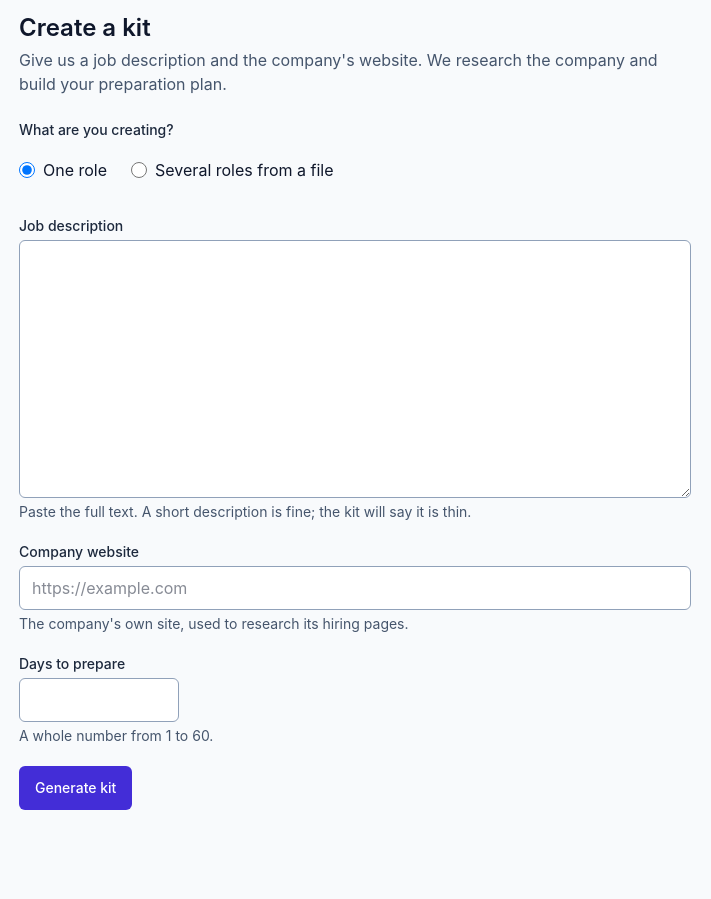
single form: checking before sending › explains every problem, marks the fields, and focuses the first
This screenshot has width=711, height=899.
Click the button "Generate kit". click: {"x": 76, "y": 788}
box: [19,766,132,810]
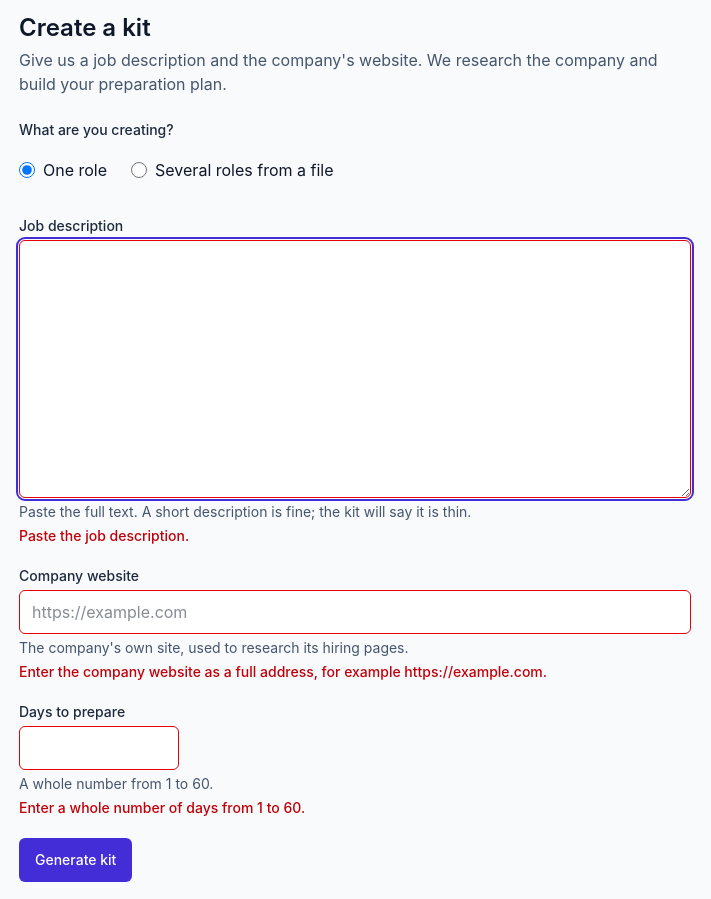
Expected: the text "Paste the job description." is shown, [19,527,189,544]
Expected: the text "full address, for example https://example.com" is shown, [19,663,547,680]
Expected: the text "Enter a whole number of days from 1 to 60." is shown, [19,799,305,816]
